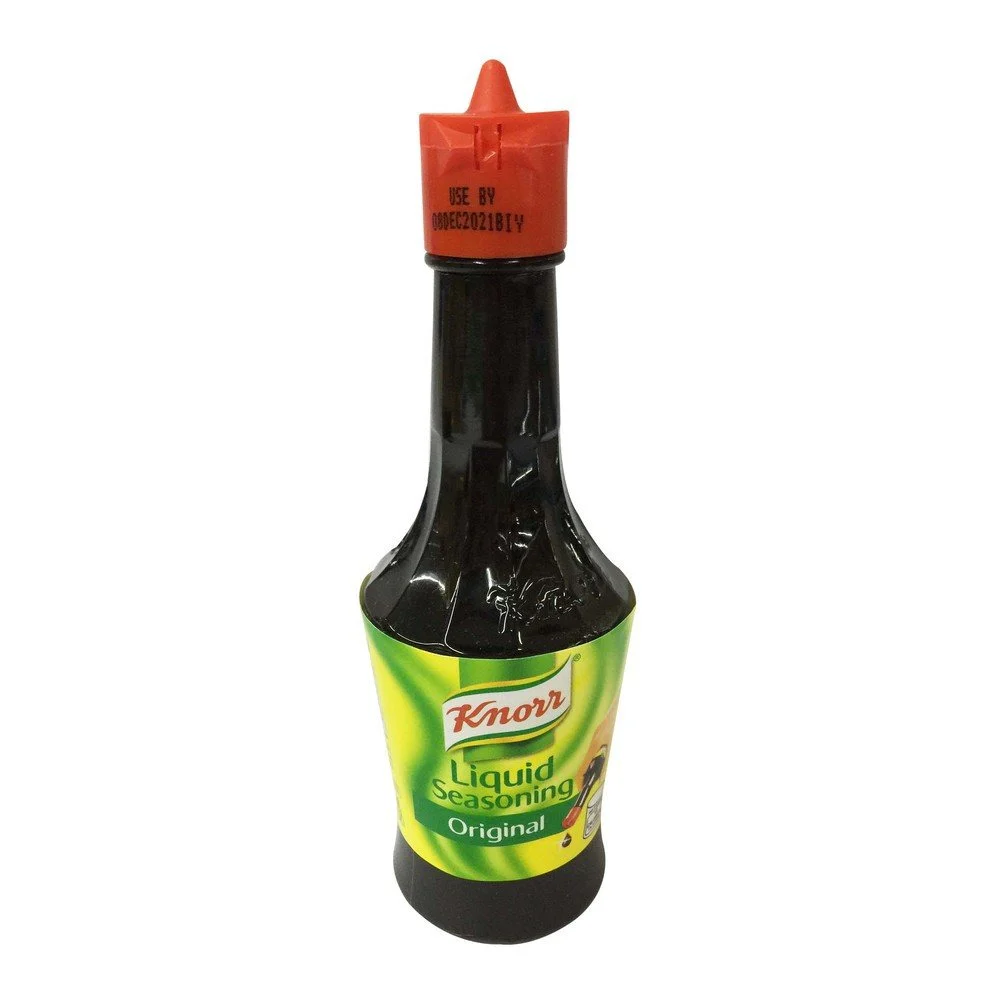non-toxic_waste: (394, 81, 624, 917)
